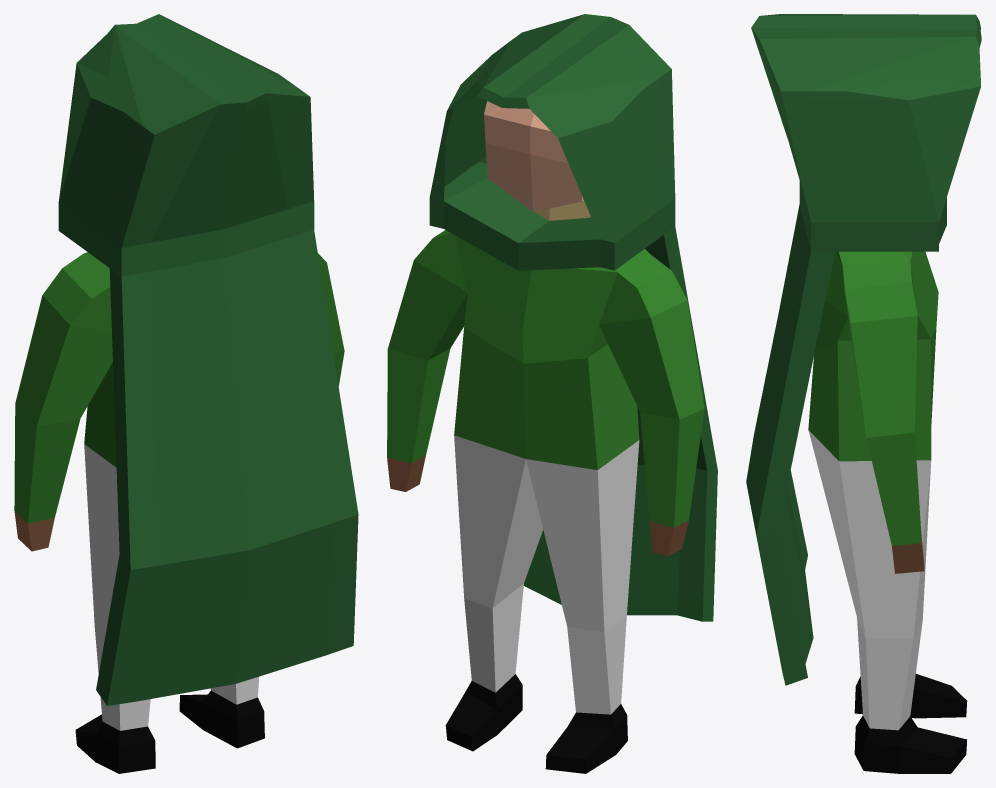
File: UTF-8fartcher.fbx
3 renders of one model, left to right at view 1: azimuth 30°, elevation 25°; view 2: azimuth 150°, elevation 25°; view 3: azimuth 270°, elevation 25°, orthographic. The views are drawn at different scales.
Visible parts, largest first — view 1: Cube; view 2: Cube; view 3: Cube.
Boxes of the visible parts, <box> form: Cube: <box>14,14,358,773</box>; Cube: <box>387,14,717,773</box>; Cube: <box>746,14,981,773</box>.
Bounding box in the file's own units: 283 × 615 × 184.
